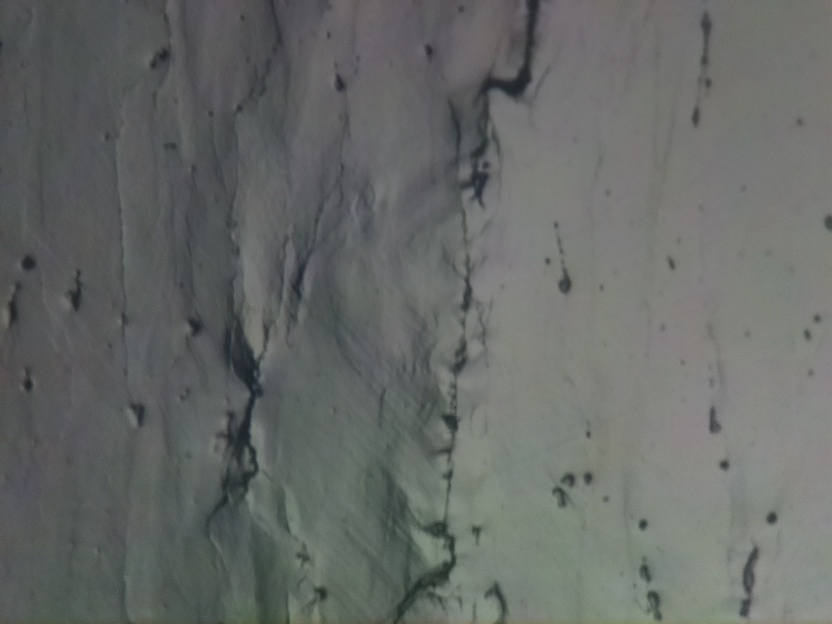crack: (382, 202, 474, 622), (463, 0, 541, 197), (207, 310, 271, 525)
